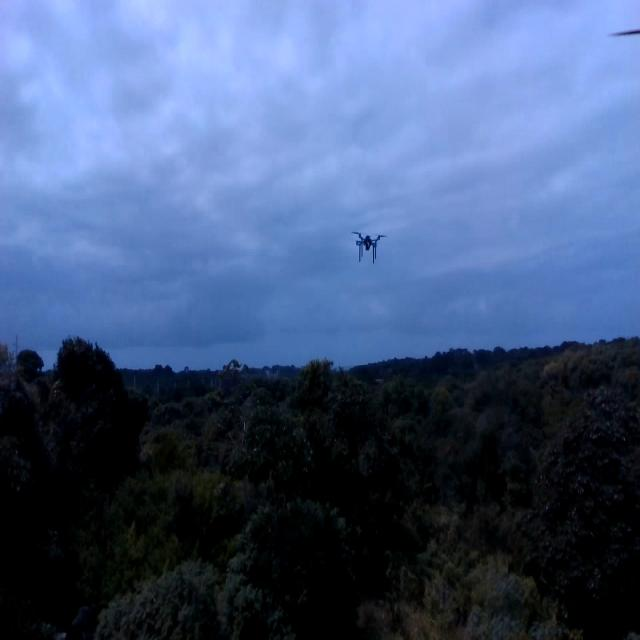-uav-: (348, 205, 389, 271)
